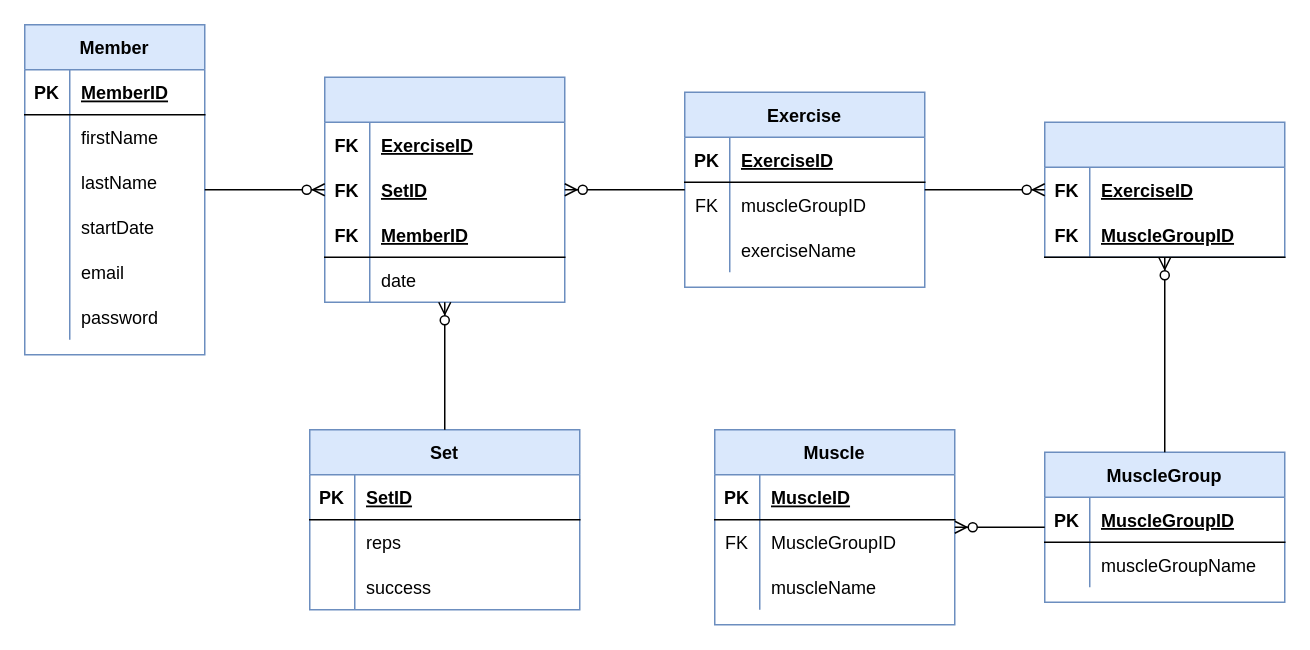
Some shapes in this 1310 by 650 pixel diagram are drawn without their labels. The box of each missing label's shape, as (x1, y1, x2, y2) in pixels:
ExerciseMuscleGroup: (1043, 121, 1285, 257)
MemberExercise: (323, 76, 565, 302)
